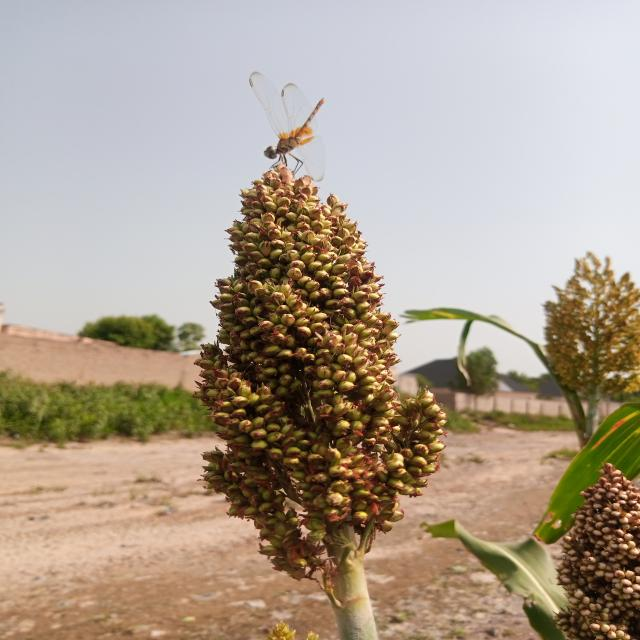UnripeSorghum: (167, 158, 475, 592)
